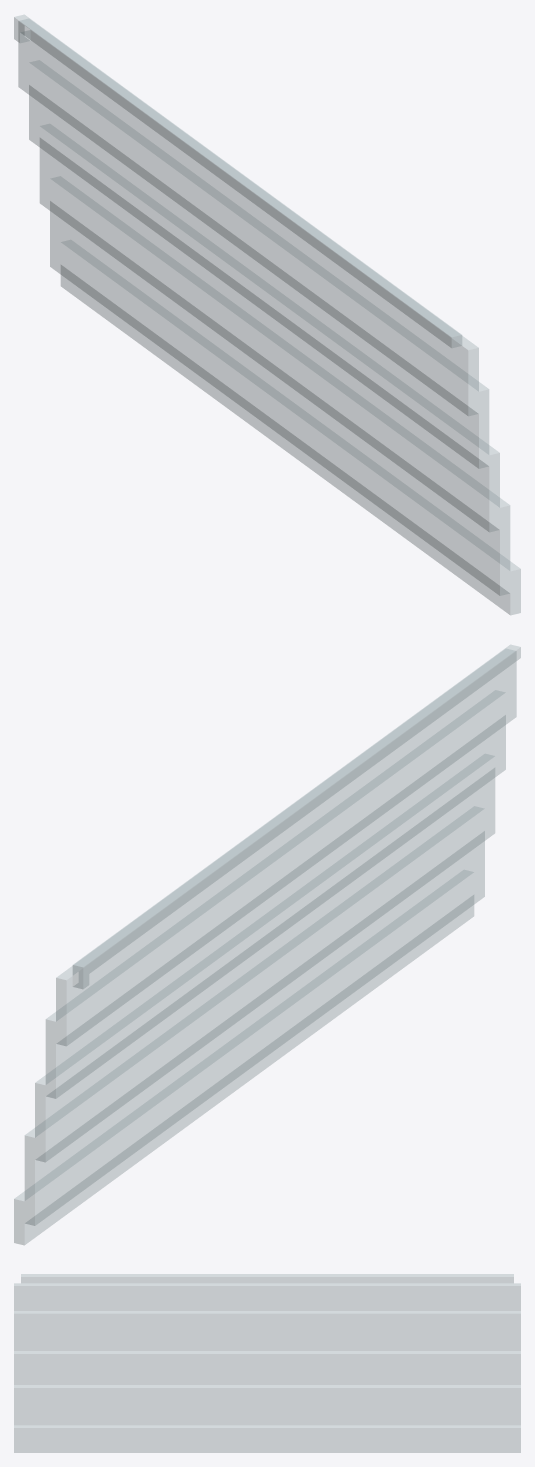
The model's file is fire_engine_windscreen.glb.
3 views of the same model, one above another, from view 1: azimuth 30°, elevation 25°; view 2: azimuth 150°, elevation 25°; view 3: azimuth 270°, elevation 25° (orthographic). The views are drawn at different scales.
Visible parts, largest first — view 1: body:compound; view 2: body:compound; view 3: body:compound.
Part boxes in pixels (box(x1,y1,x2,y2)): body:compound: box(14, 14, 520, 615); body:compound: box(14, 644, 520, 1245); body:compound: box(14, 1274, 520, 1452).
Bounding box in the file's own units: 0.1875 × 0.8125 × 2.31.
